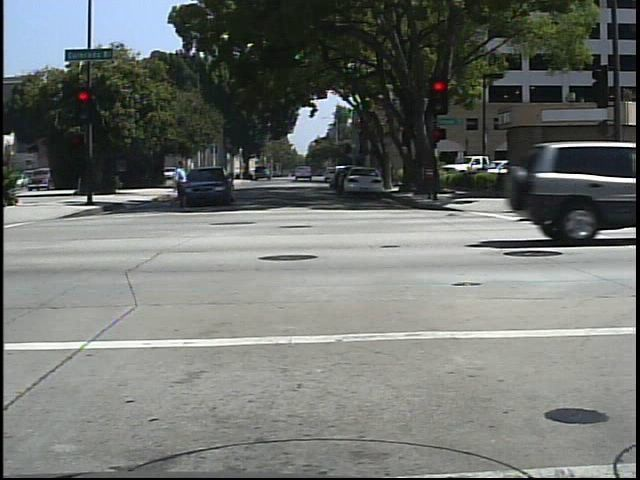person: (587, 143, 619, 210), (165, 156, 193, 213)
